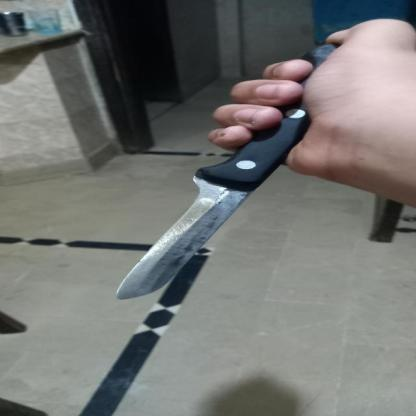Knife: (113, 43, 363, 313)
